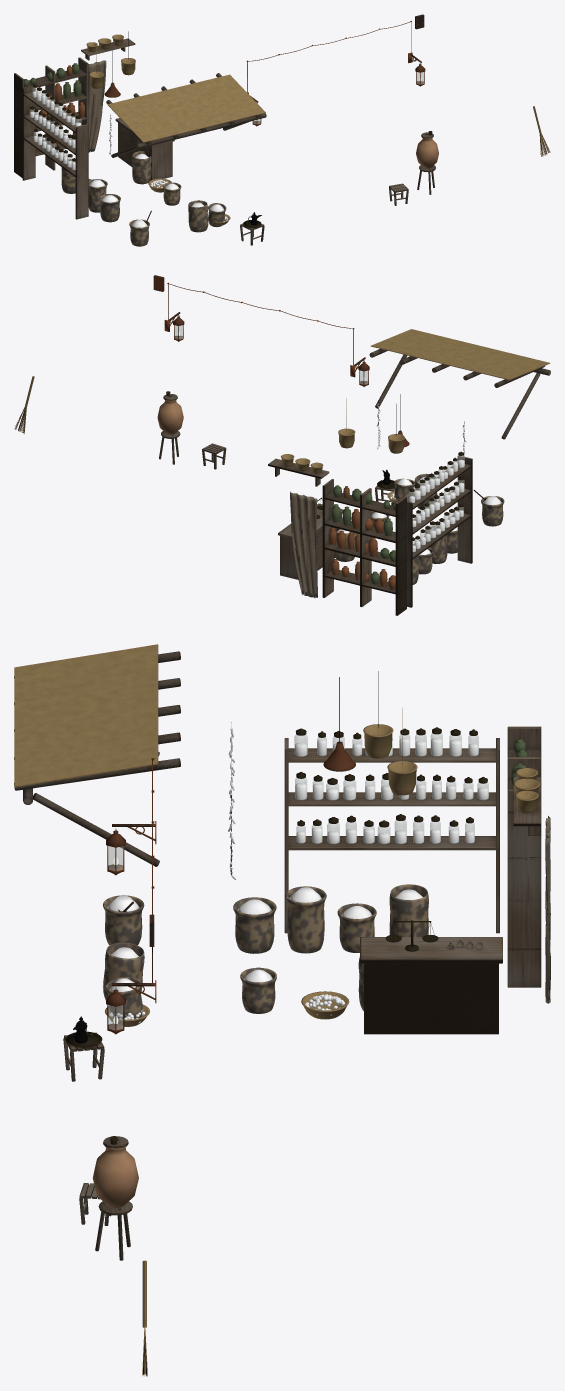
File: souq_heroprops.glb
The picture shows the model from 3 angles, top to bottom: view 1: azimuth 30°, elevation 25°; view 2: azimuth 150°, elevation 25°; view 3: azimuth 270°, elevation 25°; orthographic projection. The views are drawn at different scales.
Visible parts, largest first — view 1: GX_heroprops_LOD0, GX_heroprops_GLASS; view 2: GX_heroprops_LOD0, GX_heroprops_GLASS; view 3: GX_heroprops_LOD0, GX_heroprops_GLASS.
Part boxes in pixels (bbox=[...]): GX_heroprops_LOD0: bbox=[14, 14, 550, 246]; GX_heroprops_GLASS: bbox=[29, 72, 423, 170]; GX_heroprops_LOD0: bbox=[14, 275, 550, 615]; GX_heroprops_GLASS: bbox=[174, 325, 464, 552]; GX_heroprops_LOD0: bbox=[14, 644, 550, 1376]; GX_heroprops_GLASS: bbox=[108, 733, 488, 1029].
Size of what is drawn, in the model's own units: 10.55 by 3.86 by 5.56.
Materials: 3 (1 with a texture image).
